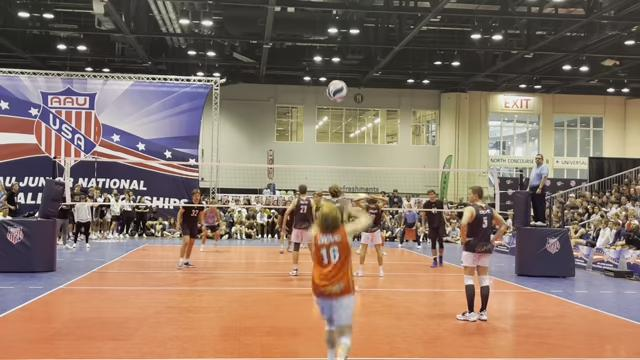Player: (457, 186, 506, 321), (284, 185, 314, 275), (355, 196, 387, 276), (177, 189, 204, 268), (422, 189, 445, 266), (200, 198, 220, 251), (277, 202, 293, 253)
Serve: (297, 195, 373, 360)
ball: (326, 79, 347, 103)
